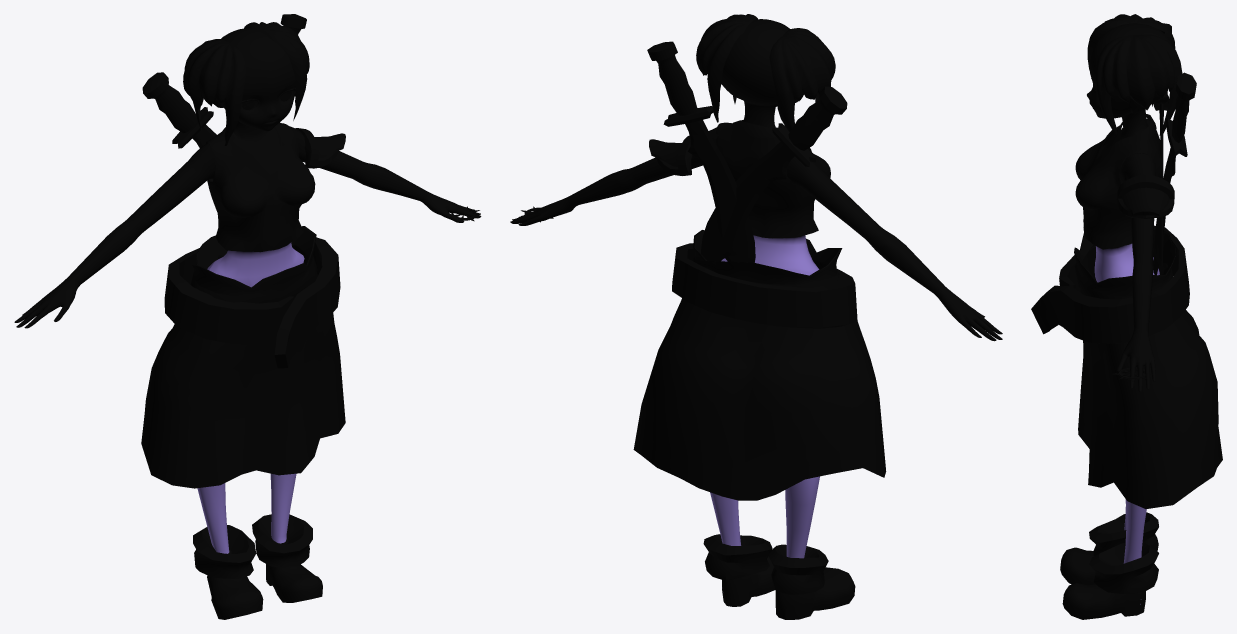
Rendered from Ninja Character.fbx.
3 views of the same model, side by side, from view 1: azimuth 30°, elevation 25°; view 2: azimuth 150°, elevation 25°; view 3: azimuth 270°, elevation 25° (orthographic). The views are drawn at different scales.
Visible parts, largest first — view 1: ninja_character:Ninja__Character; view 2: ninja_character:Ninja__Character; view 3: ninja_character:Ninja__Character.
Part boxes in pixels (bbox=[...]): ninja_character:Ninja__Character: bbox=[14, 14, 481, 619]; ninja_character:Ninja__Character: bbox=[510, 14, 1002, 619]; ninja_character:Ninja__Character: bbox=[1031, 14, 1222, 619].
Bounding box in the file's own units: 163 × 186 × 56.54.
